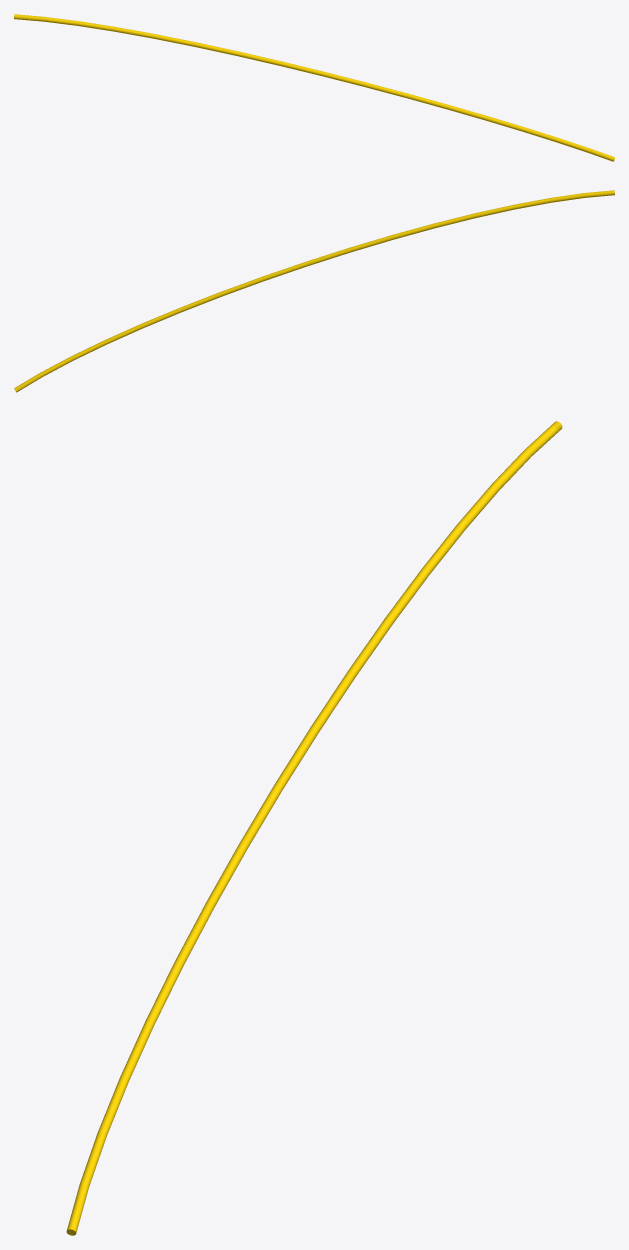
File: Event_420094457_track_2.fbx
The picture shows the model from 3 angles, top to bottom: view 1: azimuth 30°, elevation 25°; view 2: azimuth 210°, elevation 25°; view 3: azimuth 270°, elevation 25°; orthographic projection. The views are drawn at different scales.
Parts seen in each view (by area): view 1: Model; view 2: Model; view 3: Model.
Part boxes in pixels (<box>): Model: <box>14,14,614,161</box>; Model: <box>14,190,614,392</box>; Model: <box>66,421,562,1235</box>.
Bounding box in the file's own units: 4.49 × 1.56 × 2.01.
